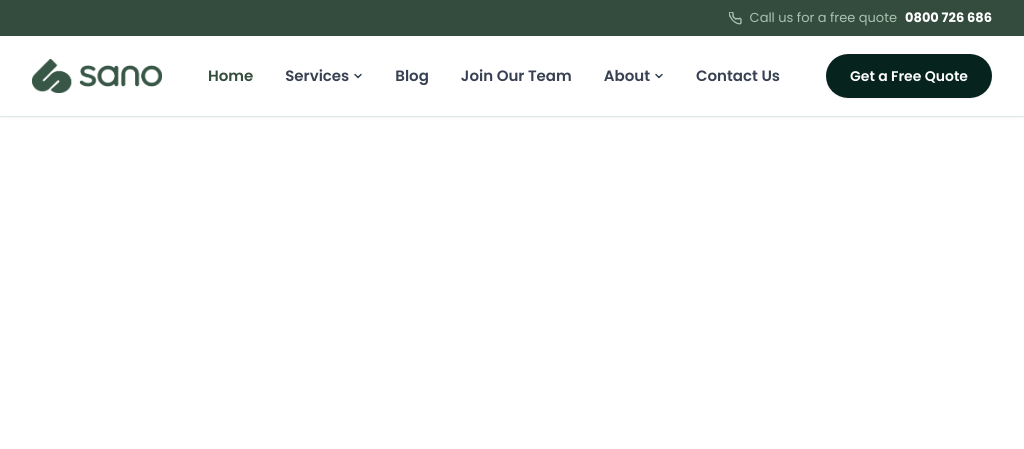
Header — Services dropdown › shows on mouse enter
Hover over the element "Services": (324, 76) [285,64,363,88]
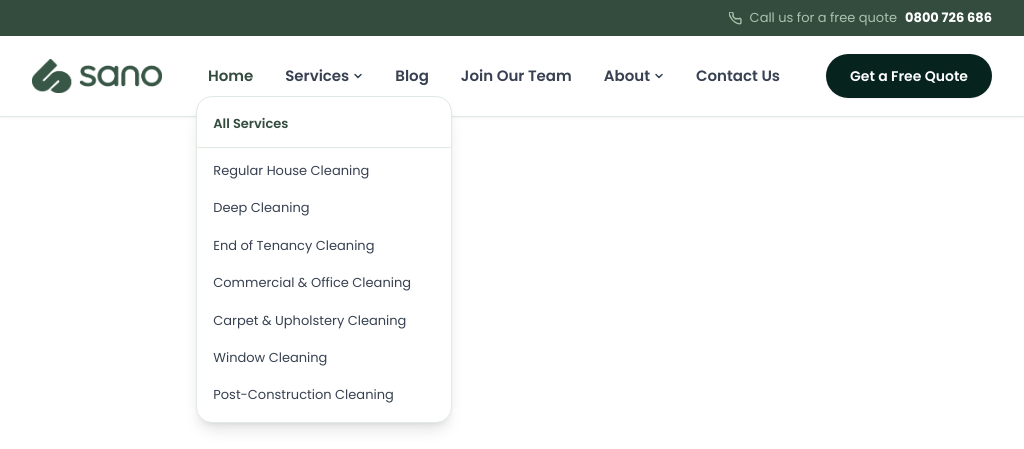
Now the link "All Services" is shown, box [213,114,288,133]
Now the link "Regular House Cleaning" is shown, box [213,161,369,180]
Now the link "Post-Construction Cleaning" is shown, box [213,385,394,404]
